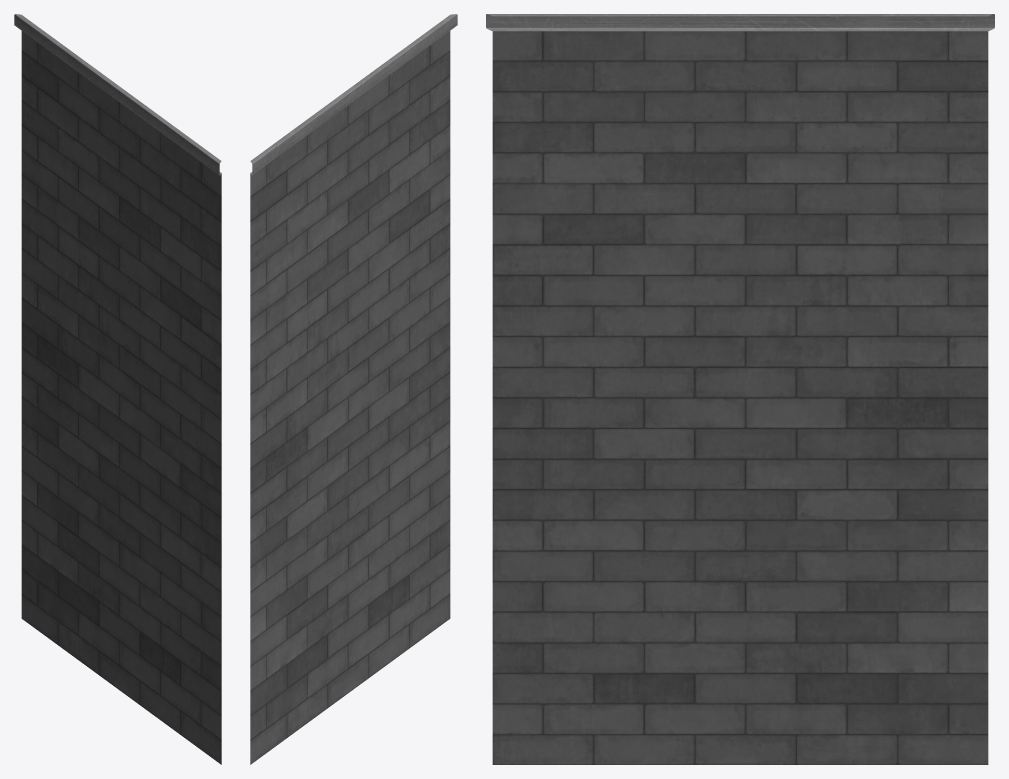
File: SM_Mid_150_Empty.fbx
The picture shows the model from 3 angles, left to right: view 1: azimuth 30°, elevation 25°; view 2: azimuth 150°, elevation 25°; view 3: azimuth 270°, elevation 25°; orthographic projection. The views are drawn at different scales.
Visible parts, largest first — view 1: SM_Mid_150_Empty_LOD0; view 2: SM_Mid_150_Empty_LOD0; view 3: SM_Mid_150_Empty_LOD0.
Part boxes in pixels (x1=…): SM_Mid_150_Empty_LOD0: x1=14, y1=14, x2=221, y2=764; SM_Mid_150_Empty_LOD0: x1=250, y1=14, x2=457, y2=764; SM_Mid_150_Empty_LOD0: x1=486, y1=14, x2=994, y2=764.
Bounding box in the file's own units: 2 × 154 × 250.
